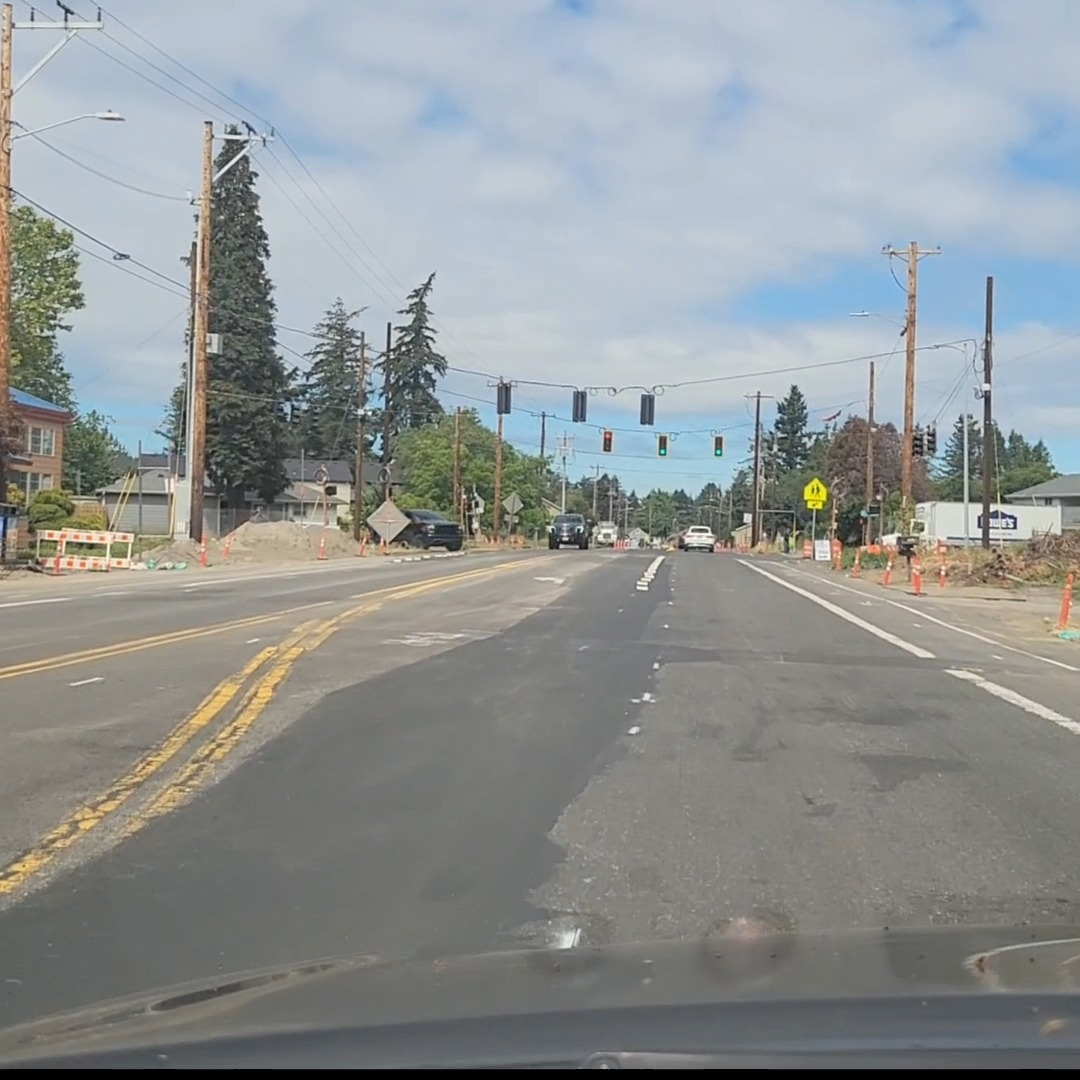car: (397, 510, 462, 550), (547, 513, 590, 548), (677, 525, 717, 552), (593, 520, 618, 547)
crosswalk-sign: (803, 476, 827, 510)
delineator: (1049, 574, 1076, 636), (910, 564, 923, 595), (881, 554, 893, 585), (849, 548, 861, 577), (937, 559, 948, 587), (316, 535, 328, 559), (198, 539, 208, 566), (222, 536, 232, 562), (357, 535, 368, 557), (379, 536, 388, 555), (937, 541, 947, 554), (737, 541, 748, 552), (488, 534, 495, 545)
